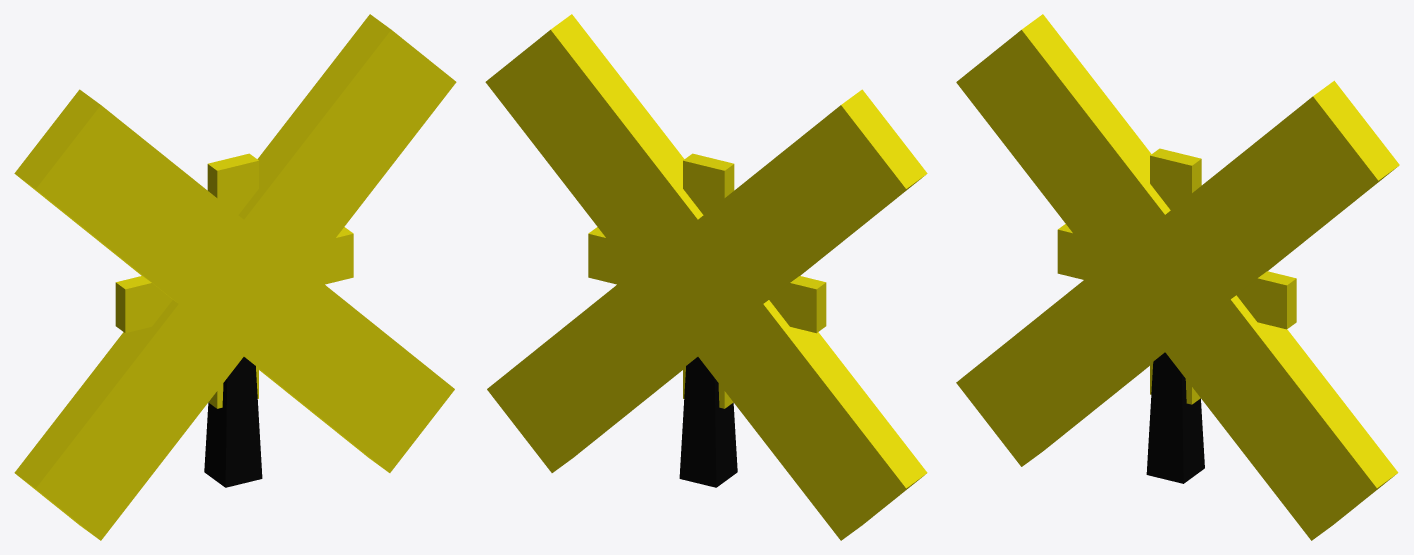
The model's file is верний.fbx.
3 views of the same model, side by side, from view 1: azimuth 30°, elevation 25°; view 2: azimuth 150°, elevation 25°; view 3: azimuth 330°, elevation 25° (orthographic).
Visible parts, largest first — view 1: Cube.001, Cube.002, Cube; view 2: Cube.001, Cube.002, Cube; view 3: Cube.001, Cube.002, Cube.
Boxes of the visible parts, x1,y1,x2,y2 form: Cube.001: (14, 14, 456, 540); Cube.002: (115, 153, 353, 408); Cube: (204, 357, 262, 487); Cube.001: (485, 14, 927, 540); Cube.002: (588, 153, 826, 408); Cube: (679, 357, 737, 487); Cube.001: (956, 14, 1399, 540); Cube.002: (1057, 148, 1296, 404); Cube: (1146, 352, 1204, 483).
Bounding box in the file's own units: 414 × 417 × 36.4.
